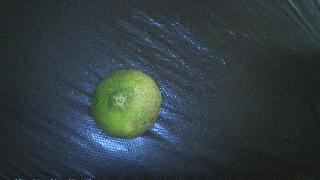DESECHO: (91, 69, 162, 138)
